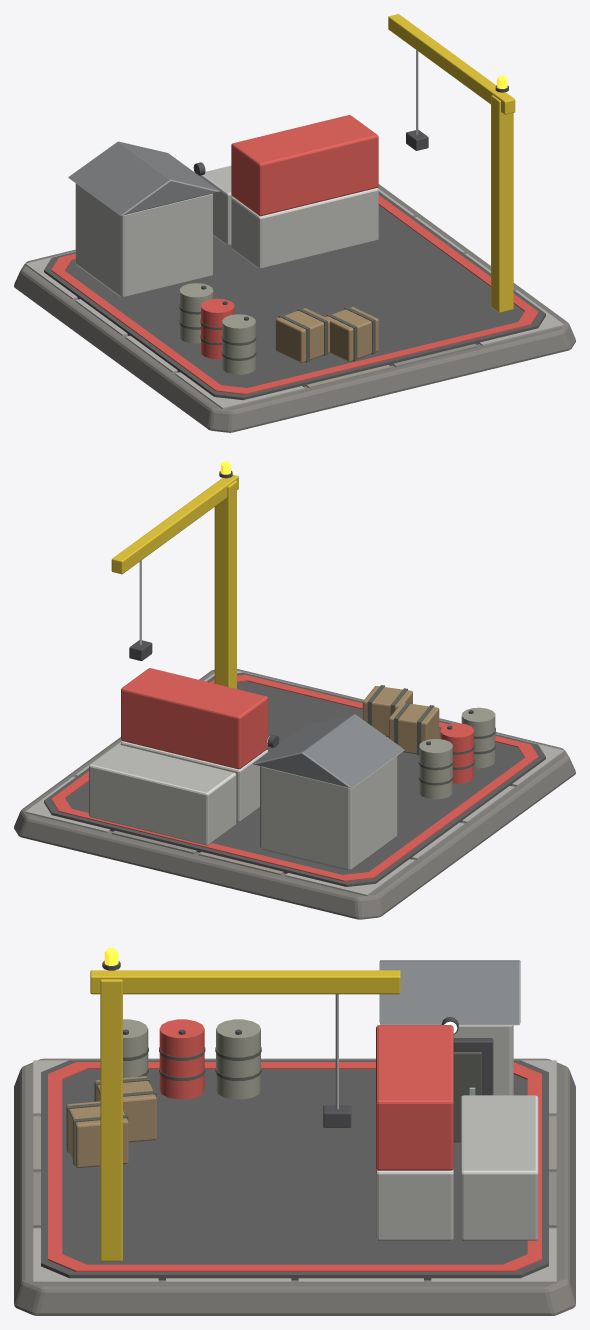
Rendered from supply_depot_red.glb.
The picture shows the model from 3 angles, top to bottom: view 1: azimuth 30°, elevation 25°; view 2: azimuth 150°, elevation 25°; view 3: azimuth 270°, elevation 25°; orthographic projection. The views are drawn at different scales.
Visible parts, largest first — view 1: Body; view 2: Body; view 3: Body.
Boxes of the visible parts, <box> form: Body: <box>14,14,575,432</box>; Body: <box>14,461,575,919</box>; Body: <box>14,948,575,1315</box>.
Bounding box in the file's own units: 3.98 × 2.65 × 3.98.
1 material, 1 textured.
